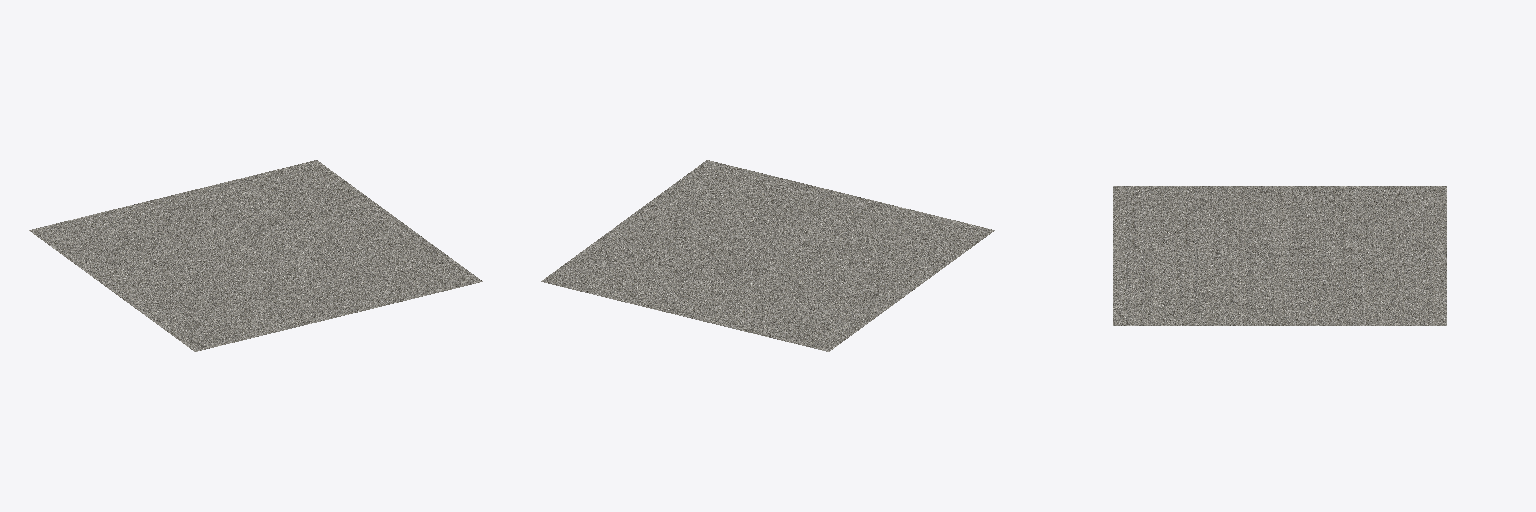
3 views of the same model, side by side, from view 1: azimuth 30°, elevation 25°; view 2: azimuth 150°, elevation 25°; view 3: azimuth 270°, elevation 25° (orthographic).
Visible parts, largest first — view 1: Plane; view 2: Plane; view 3: Plane.
Part boxes in pixels (x1,y1,x2,y2): Plane: (29, 160, 482, 351); Plane: (541, 160, 994, 351); Plane: (1113, 186, 1446, 325).
Bounding box in the file's own units: 117 × 0 × 117.
1 materials, 1 textured.